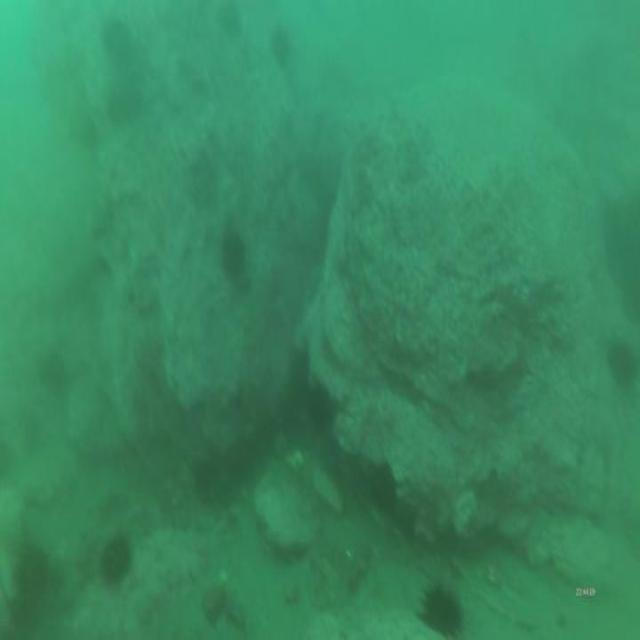echinus: (10, 539, 60, 635), (422, 575, 463, 640), (605, 328, 639, 394), (98, 531, 134, 593), (368, 458, 400, 522), (218, 224, 250, 284), (38, 348, 70, 403), (100, 14, 132, 66), (308, 381, 336, 436), (270, 19, 292, 66)
